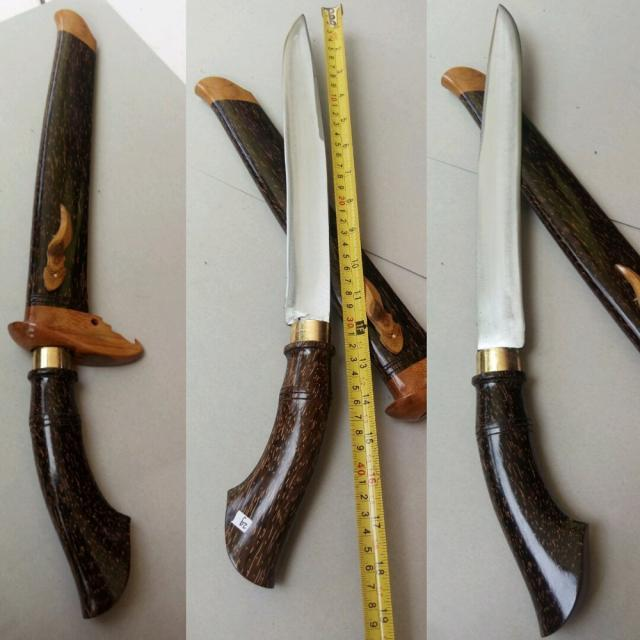Pisau: (458, 1, 601, 636)
